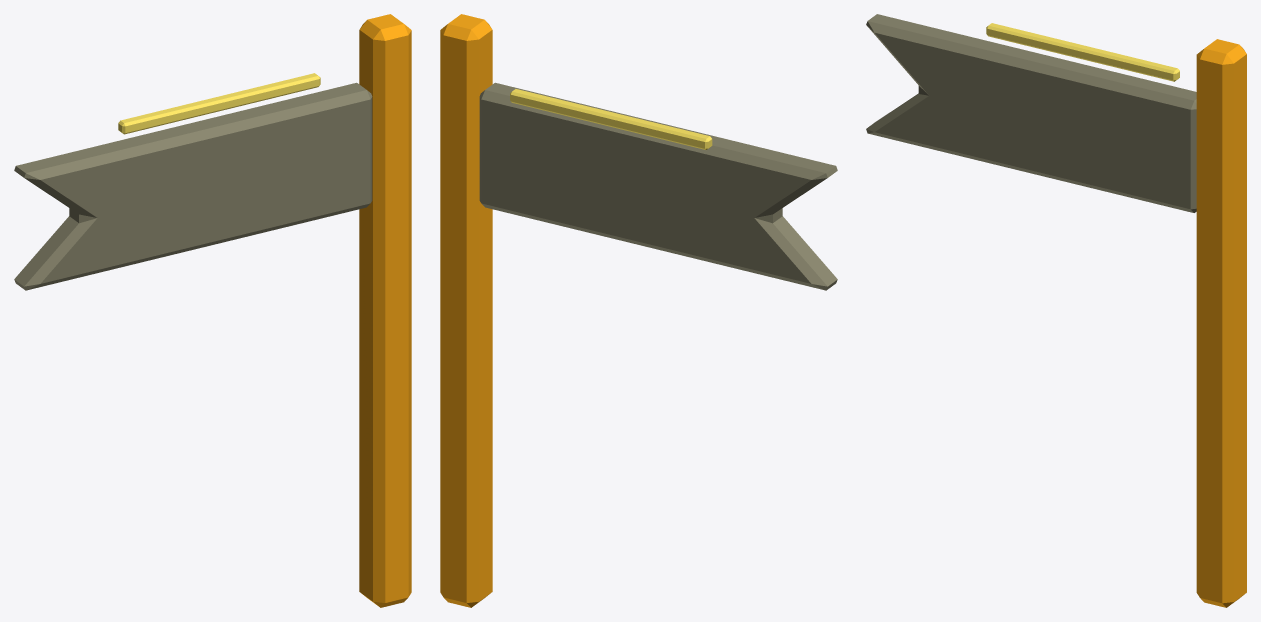
The model's file is prism_save_flag_active.obj.
3 views of the same model, side by side, from view 1: azimuth 30°, elevation 25°; view 2: azimuth 150°, elevation 25°; view 3: azimuth 330°, elevation 25° (orthographic). The views are drawn at different scales.
Visible parts, largest first — view 1: PrismSaveFlag_Active; view 2: PrismSaveFlag_Active; view 3: PrismSaveFlag_Active.
Boxes of the visible parts, x1,y1,x2,y2 form: PrismSaveFlag_Active: [14, 14, 411, 607]; PrismSaveFlag_Active: [440, 14, 837, 607]; PrismSaveFlag_Active: [866, 14, 1246, 607].
Bounding box in the file's own units: 0.8937 × 1.28 × 0.1005.
1 material, 1 textured.
